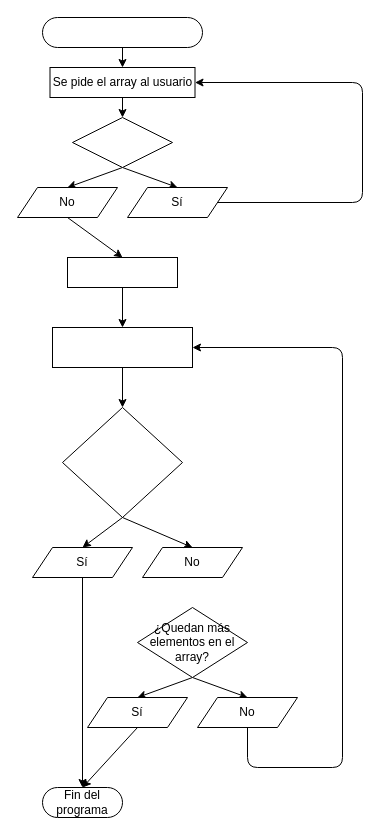
Image size: 388x835. Some labels were removed from this diagram. The shapes that lost their labels are listed below. From the top down, each one's centre as x and y in pixels, then its label:
the point at 122,32: Inicio
the point at 122,142: ¿Está vacío el array?
the point at 122,272: Se pide el valor a buscar al usuario
the point at 122,347: Se comprueba el valor del elemento del array
the point at 122,462: ¿Es el elemento el que estamos buscando?
